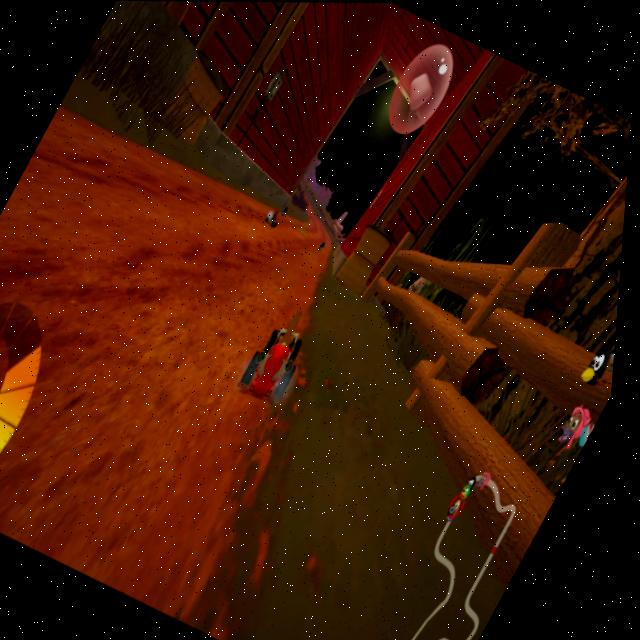enemy_kart: (261, 204, 290, 234)
nitro: (319, 238, 331, 252)
obstacle: (297, 216, 317, 241)
player_kart: (236, 297, 336, 415)
